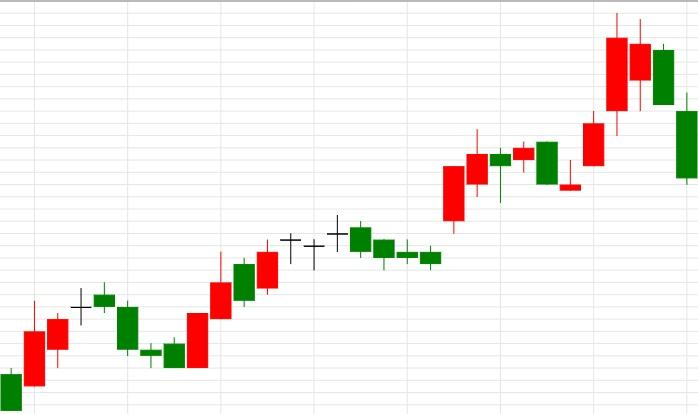bearish_engulfing_fall: (419, 129, 559, 270)
bullish_engulfing_rise: (93, 282, 209, 369)
